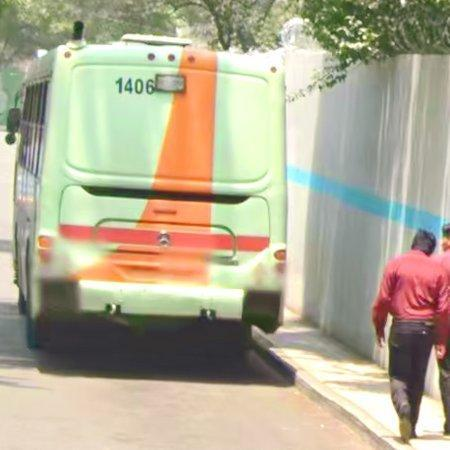buses: (14, 34, 288, 346)
